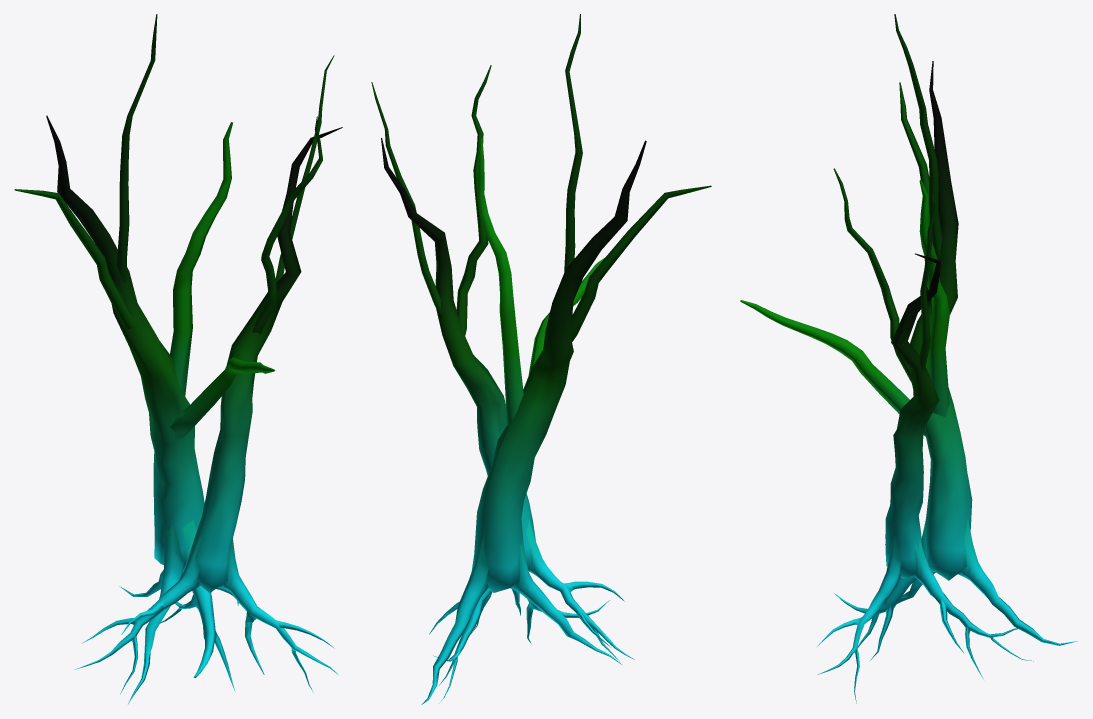
Rendered from Burntree5.fbx.
3 renders of one model, left to right at view 1: azimuth 30°, elevation 25°; view 2: azimuth 150°, elevation 25°; view 3: azimuth 270°, elevation 25°, orthographic. The views are drawn at different scales.
Visible parts, largest first — view 1: Burntree5_LOD0; view 2: Burntree5_LOD0; view 3: Burntree5_LOD0.
Boxes of the visible parts, x1,y1,x2,y2 form: Burntree5_LOD0: (14,14,342,703); Burntree5_LOD0: (371,14,711,704); Burntree5_LOD0: (740,14,1077,703).
Size of what is drawn, in the model's own units: 497 by 982 by 478.
